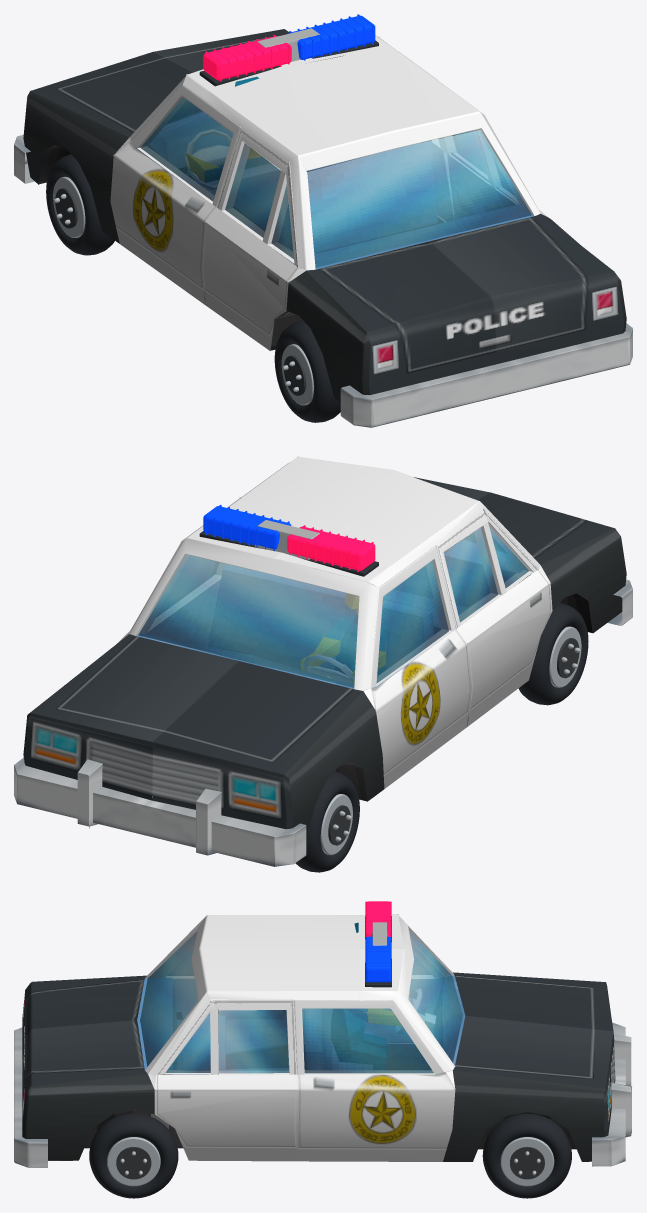
Rendered from car-cpolice.glb.
3 renders of one model, top to bottom at view 1: azimuth 30°, elevation 25°; view 2: azimuth 150°, elevation 25°; view 3: azimuth 270°, elevation 25°, orthographic. The views are drawn at different scales.
Parts seen in each view (by area): view 1: cPoliceShape.001, cPoliceShape.004, cPoliceShape.006, cPoliceShape.002, cPoliceShape.008, cPoliceShape.005, DoorDRotShape, DoorDRotShape.002, cpolice wheel assembly.001, cpolice wheel assembly.002, DoorDRotShape.001, cpolice beacon -1 (+6 smaller); view 2: cPoliceShape.005, cPoliceShape.004, cPoliceShape.006, cPoliceShape.002, cPoliceShape.008, DoorDRotShape, cPoliceShape.001, DoorDRotShape.002, cpolice wheel assembly.001, cpolice wheel assembly.002, DoorDRotShape.001, DoorPRotShape.001 (+7 smaller); view 3: cPoliceShape.002, cPoliceShape.004, cPoliceShape.005, cPoliceShape.001, cPoliceShape.006, cPoliceShape.008, DoorPRotShape, DoorPRotShape.002, cpolice wheel assembly.003, cpolice wheel assembly, driverShape, DoorPRotShape.001 (+5 smaller).
Part boxes in pixels (bbox=[...]): cPoliceShape.001: bbox=[306, 213, 632, 427]; cPoliceShape.004: bbox=[24, 28, 549, 281]; cPoliceShape.006: bbox=[167, 100, 531, 267]; cPoliceShape.002: bbox=[23, 91, 626, 402]; cPoliceShape.008: bbox=[210, 47, 481, 170]; cPoliceShape.005: bbox=[14, 29, 289, 183]; DoorDRotShape: bbox=[110, 142, 216, 290]; DoorDRotShape.002: bbox=[140, 97, 232, 201]; cpolice wheel assembly.001: bbox=[274, 320, 340, 422]; cpolice wheel assembly.002: bbox=[46, 154, 114, 255]; DoorDRotShape.001: bbox=[131, 85, 240, 207]; cpolice beacon -1: bbox=[203, 34, 291, 81]; cPoliceShape.005: bbox=[14, 634, 362, 866]; cPoliceShape.004: bbox=[27, 456, 550, 779]; cPoliceShape.006: bbox=[138, 527, 528, 687]; cPoliceShape.002: bbox=[26, 528, 626, 837]; cPoliceShape.008: bbox=[229, 457, 479, 565]; DoorDRotShape: bbox=[371, 629, 471, 776]; cPoliceShape.001: bbox=[413, 477, 632, 625]; DoorDRotShape.002: bbox=[376, 561, 448, 683]; cpolice wheel assembly.001: bbox=[518, 603, 588, 705]; cpolice wheel assembly.002: bbox=[295, 771, 359, 872]; DoorDRotShape.001: bbox=[371, 546, 456, 705]; DoorPRotShape.001: bbox=[117, 555, 227, 646]; cPoliceShape.002: bbox=[22, 974, 605, 1161]; cPoliceShape.004: bbox=[137, 914, 606, 1166]; cPoliceShape.005: bbox=[453, 972, 631, 1166]; cPoliceShape.001: bbox=[14, 975, 147, 1167]; cPoliceShape.006: bbox=[140, 930, 462, 1073]; cPoliceShape.008: bbox=[191, 915, 359, 999]; DoorPRotShape: bbox=[297, 1072, 455, 1150]; DoorPRotShape.002: bbox=[302, 1008, 433, 1073]; cpolice wheel assembly.003: bbox=[482, 1113, 571, 1198]; cpolice wheel assembly: bbox=[89, 1113, 178, 1198]; driverShape: bbox=[330, 922, 409, 1069]; DoorPRotShape.001: bbox=[294, 1000, 455, 1089].
Size of the model in its own units: 2.47 by 2.05 by 5.4.
15 materials, 9 textured.
